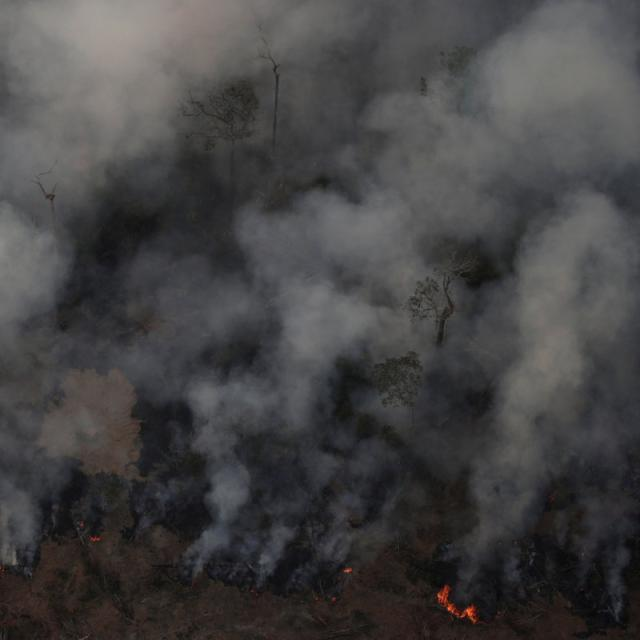Fire: (421, 558, 492, 640)
Smoke: (178, 286, 416, 582), (180, 0, 420, 280), (422, 0, 640, 287), (422, 291, 640, 554), (2, 253, 175, 570), (0, 0, 177, 253)
